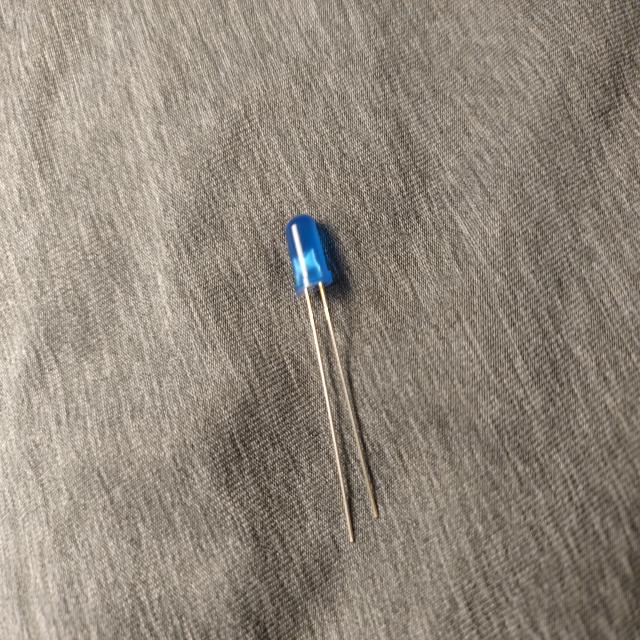blue_led: (284, 212, 380, 544)
